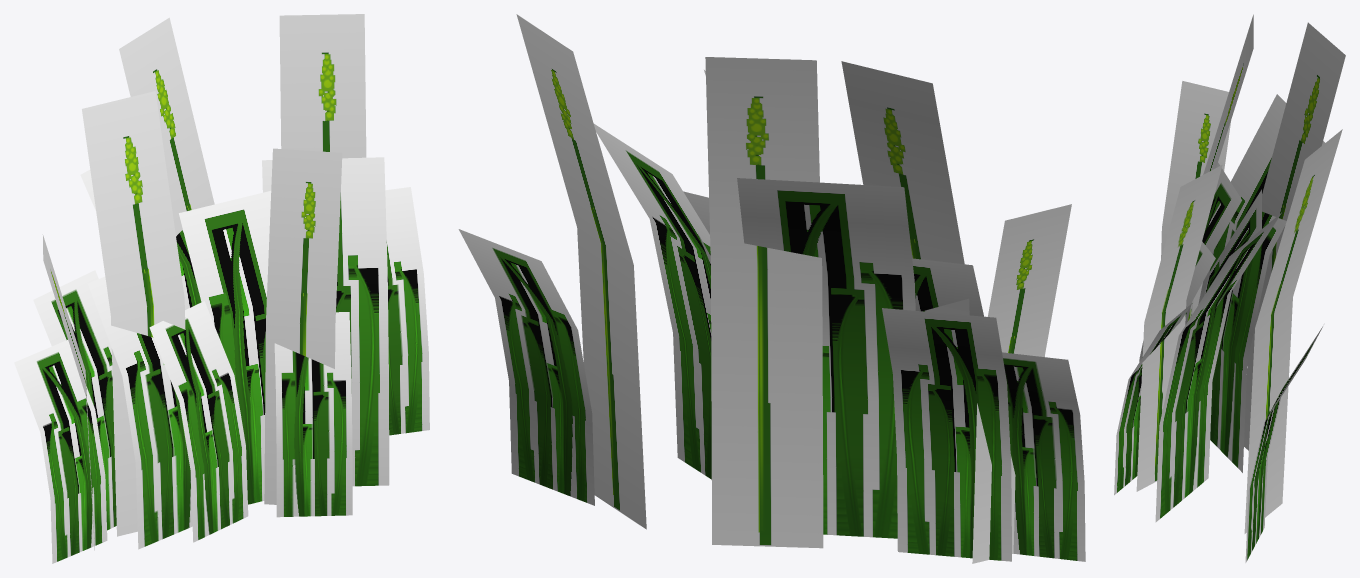
File: Grass_05c.FBX
3 views of the same model, side by side, from view 1: azimuth 30°, elevation 25°; view 2: azimuth 150°, elevation 25°; view 3: azimuth 270°, elevation 25° (orthographic). The views are drawn at different scales.
Parts seen in each view (by area): view 1: Grass_05c; view 2: Grass_05c; view 3: Grass_05c.
Part boxes in pixels (x1,y1,x2,y2): Grass_05c: (14,14,429,563); Grass_05c: (458,14,1085,563); Grass_05c: (1114,14,1345,562).
Bounding box in the file's own units: 25.13 × 22.97 × 11.76.
1 material, 1 textured.
